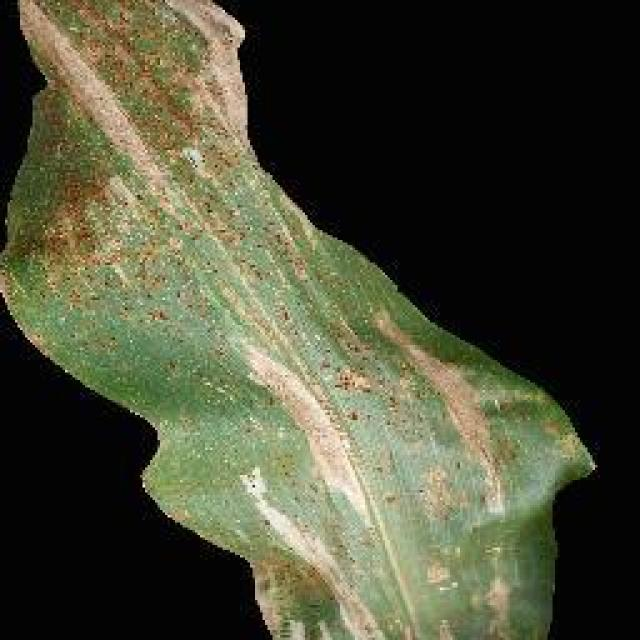Corn Common Rust: (20, 46, 575, 640)
